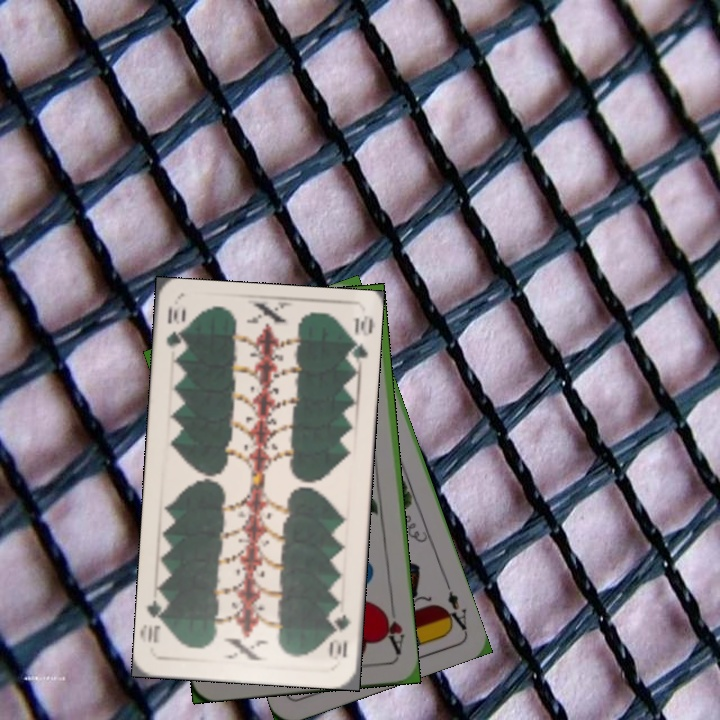EA: (439, 577, 470, 635)
G10: (326, 610, 353, 660), (162, 302, 188, 350)
HA: (378, 599, 407, 658)
